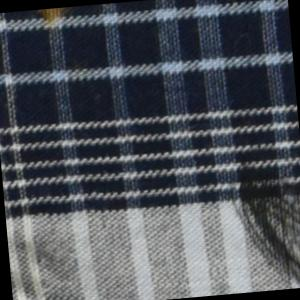Oil Stain: (38, 8, 74, 29)
Stain: (226, 165, 300, 294), (8, 227, 83, 300)
